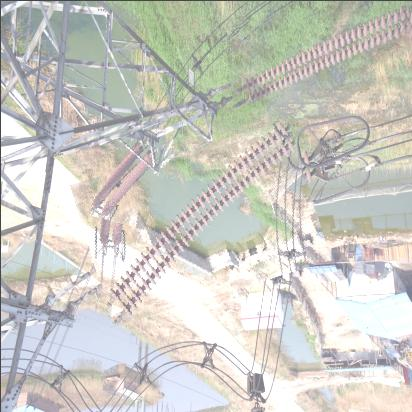insulator: (78, 134, 322, 312), (228, 10, 412, 105), (94, 138, 161, 227)
